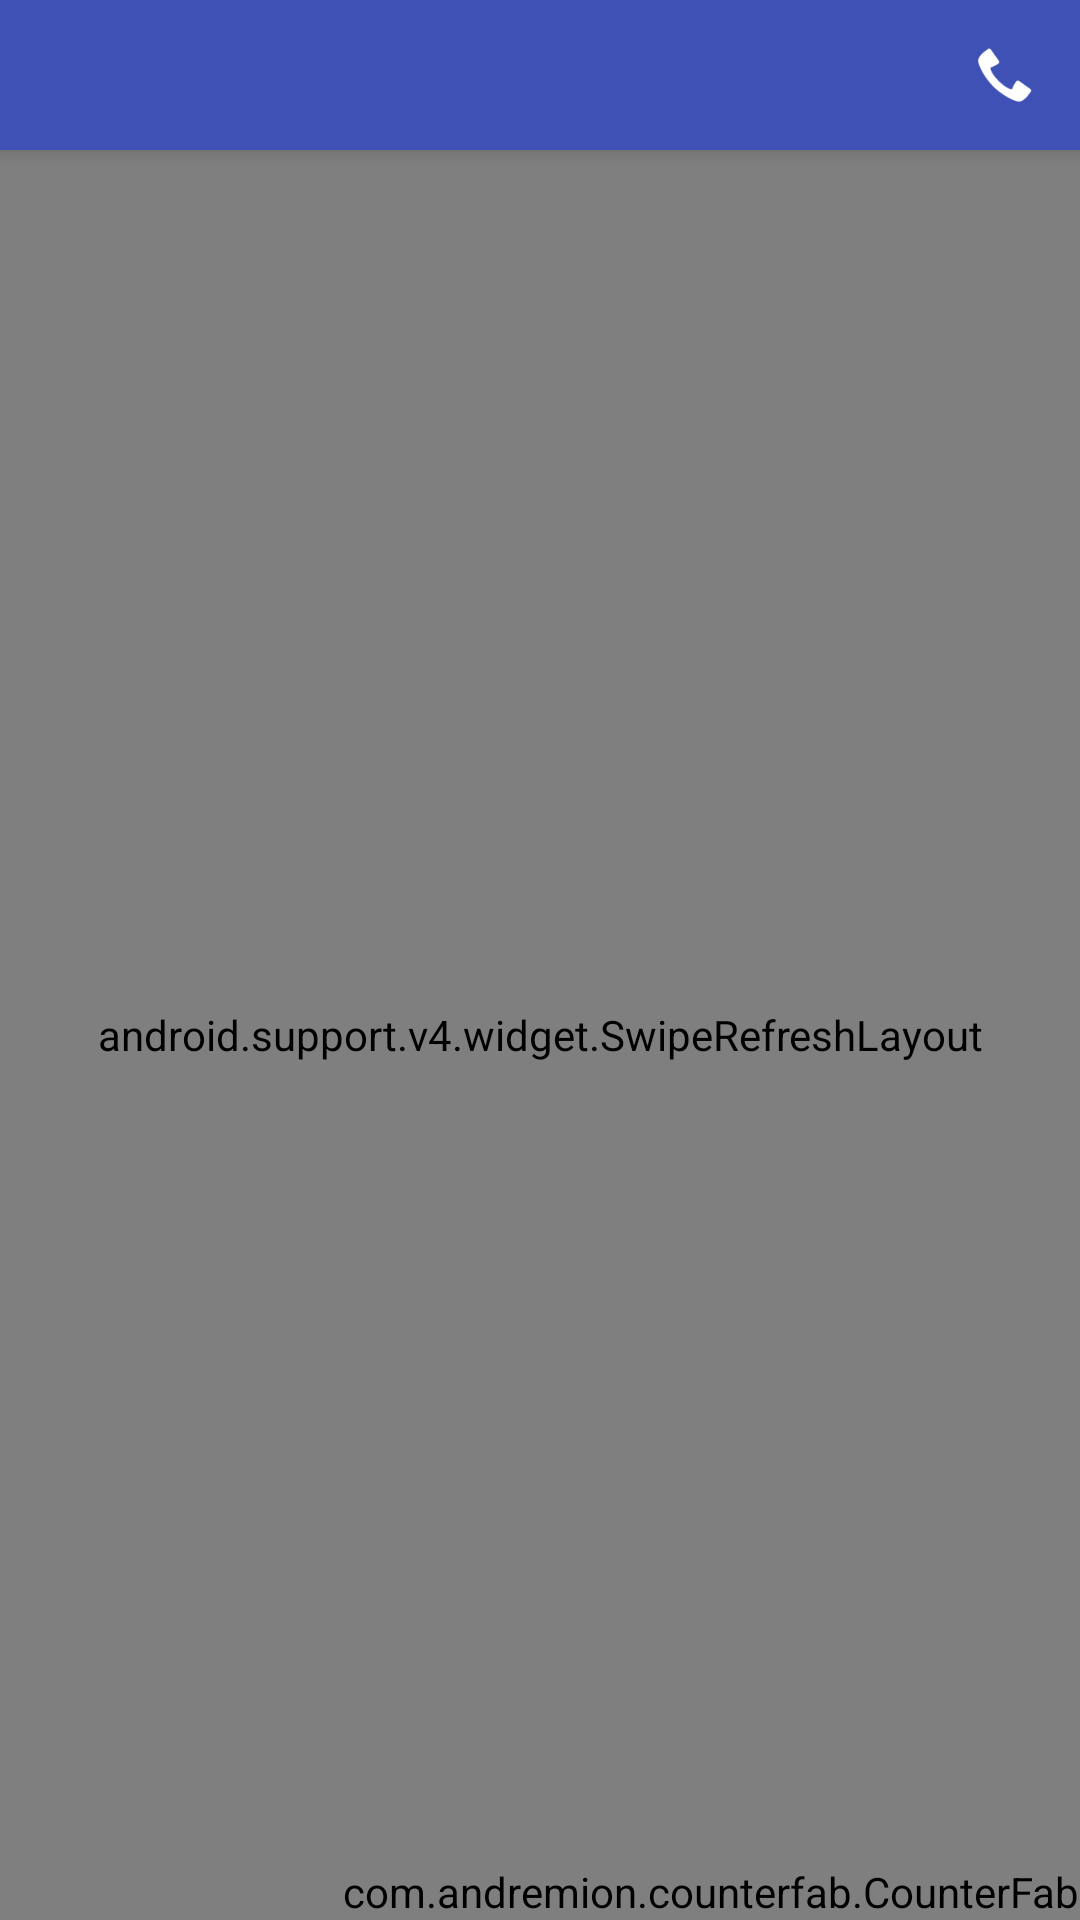

Named icons in this screenshot (1080*1920) and their centers, (x=x, y=y):
phone call: (x=1005, y=75)
